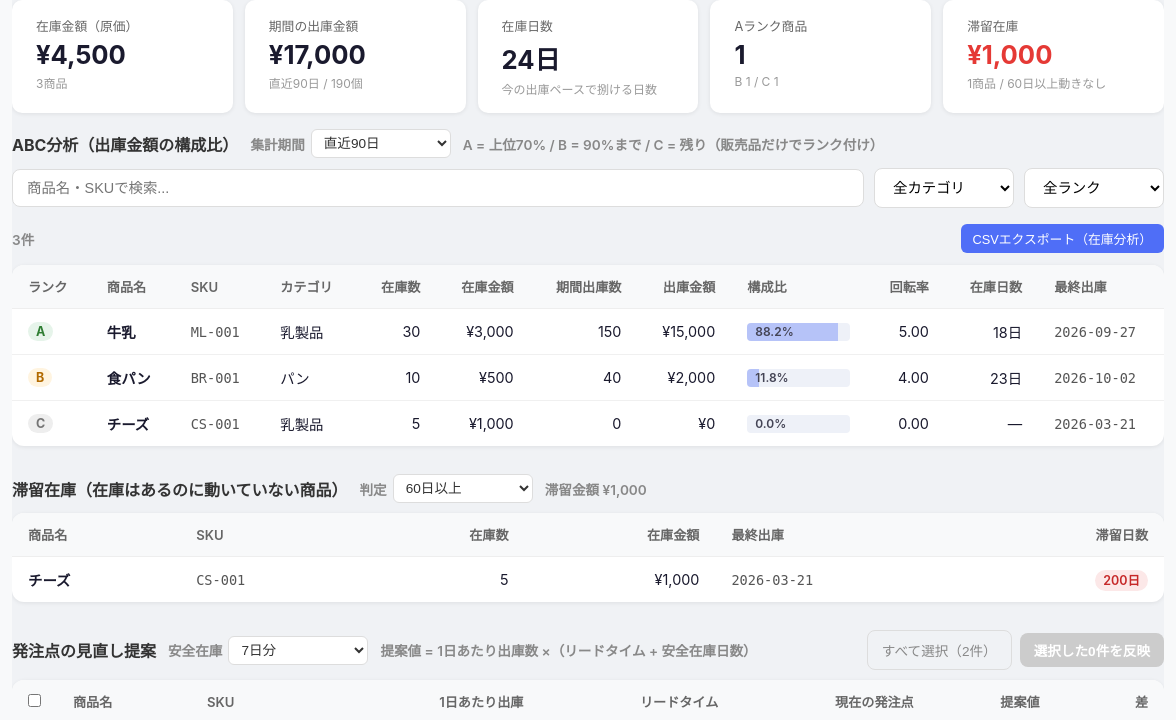
Test: StockAnalysisView — ABC分析 › 集計期間を変えると出庫の集計も変わる
Note: 直近30日にすると 40日前の60個が外れ、牛乳の出庫は90個になる
Select "直近30日" in the dropdown labelled "集計期間" at (381, 144), box x1=311 y1=129 x2=451 y2=158
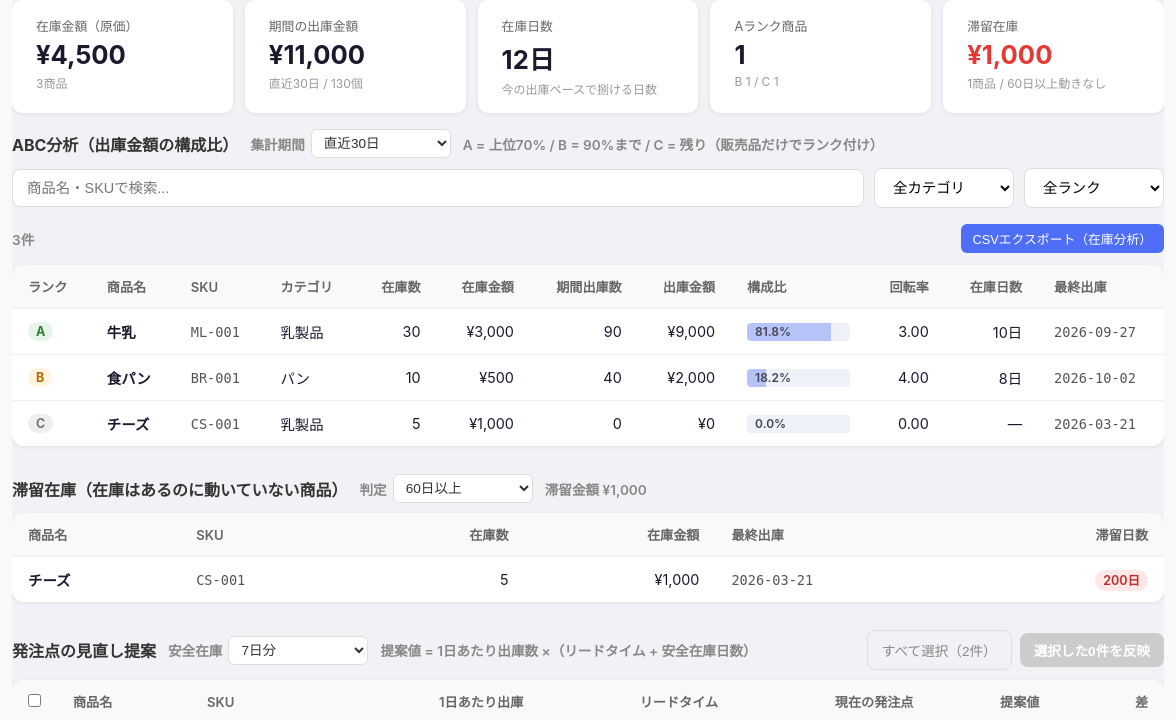
Now the text "90" is shown, box x1=530 y1=308 x2=638 y2=354
